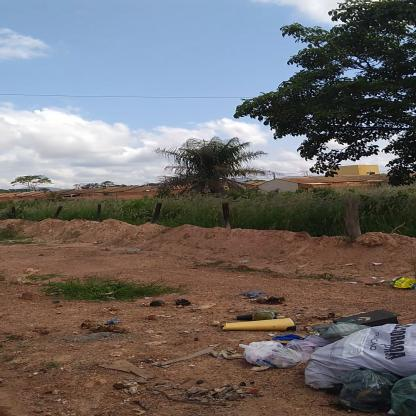lixo: (210, 308, 416, 406)
